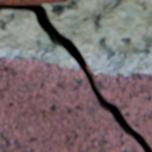brick: (0, 0, 66, 3)
broken_brick: (0, 58, 143, 151), (86, 65, 151, 147)
crack: (0, 1, 151, 151)
